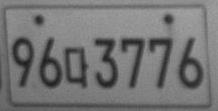3: (94, 38, 118, 87)
6: (38, 37, 63, 87), (178, 37, 203, 87)
7: (120, 38, 145, 87), (149, 37, 173, 88)
9: (11, 37, 35, 86)
다: (64, 46, 89, 88)
